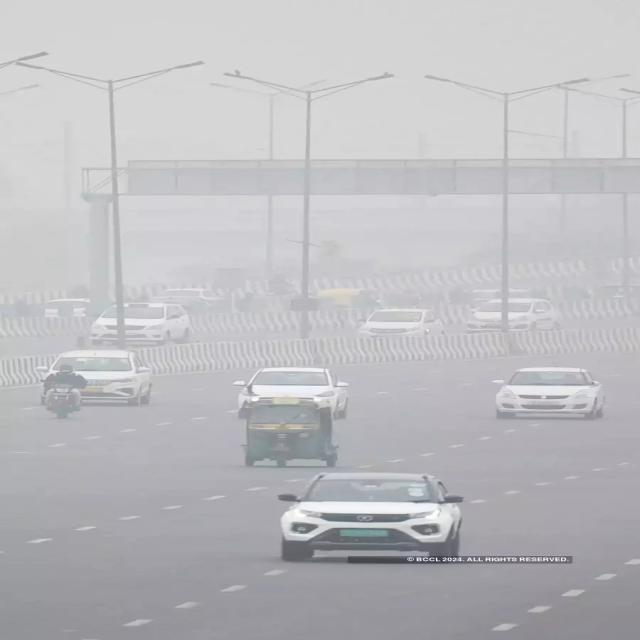no-low traffic: (9, 246, 632, 640)
